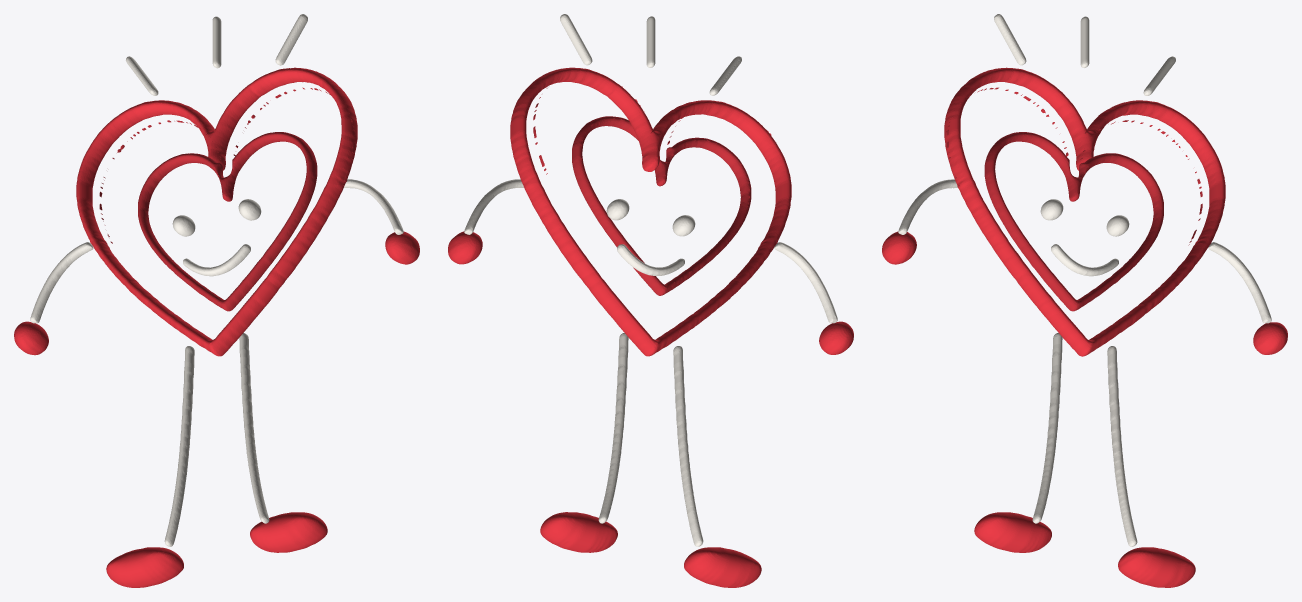
Rendered from mascot.glb.
3 renders of one model, left to right at view 1: azimuth 30°, elevation 25°; view 2: azimuth 150°, elevation 25°; view 3: azimuth 330°, elevation 25°, orthographic.
Parts seen in each view (by area): view 1: coeurete_red, coeurete_cream, coeurete_deep; view 2: coeurete_red, coeurete_cream, coeurete_deep; view 3: coeurete_red, coeurete_cream, coeurete_deep.
Part boxes in pixels (left/top/right/bottom): coeurete_red: left=14, top=67, right=419, bottom=587; coeurete_cream: left=30, top=14, right=403, bottom=546; coeurete_deep: left=99, top=87, right=355, bottom=311; coeurete_red: left=448, top=67, right=853, bottom=587; coeurete_cream: left=464, top=14, right=837, bottom=546; coeurete_deep: left=533, top=86, right=771, bottom=295; coeurete_red: left=882, top=67, right=1287, bottom=587; coeurete_cream: left=898, top=14, right=1271, bottom=546; coeurete_deep: left=946, top=87, right=1202, bottom=311.
Size of the model in its own units: 1.52 by 2 by 0.1834.
